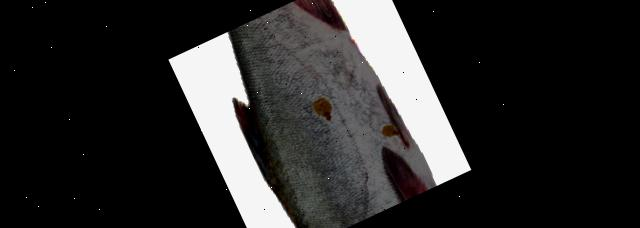Parasitic Disease: (229, 0, 436, 228)
